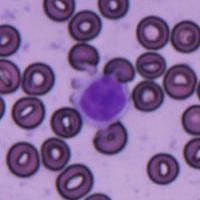L: (72, 72, 130, 128)
